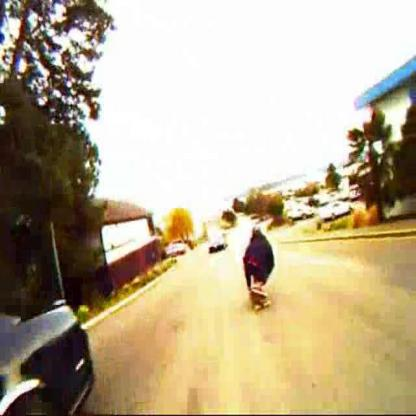other: (100, 218, 156, 258), (163, 202, 198, 244), (244, 276, 278, 314), (347, 198, 384, 231), (230, 209, 250, 240)
